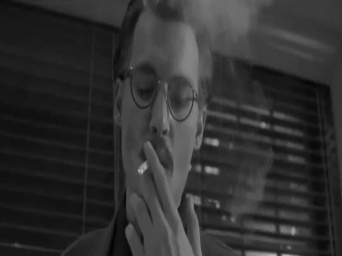smoke: (135, 158, 151, 175)
